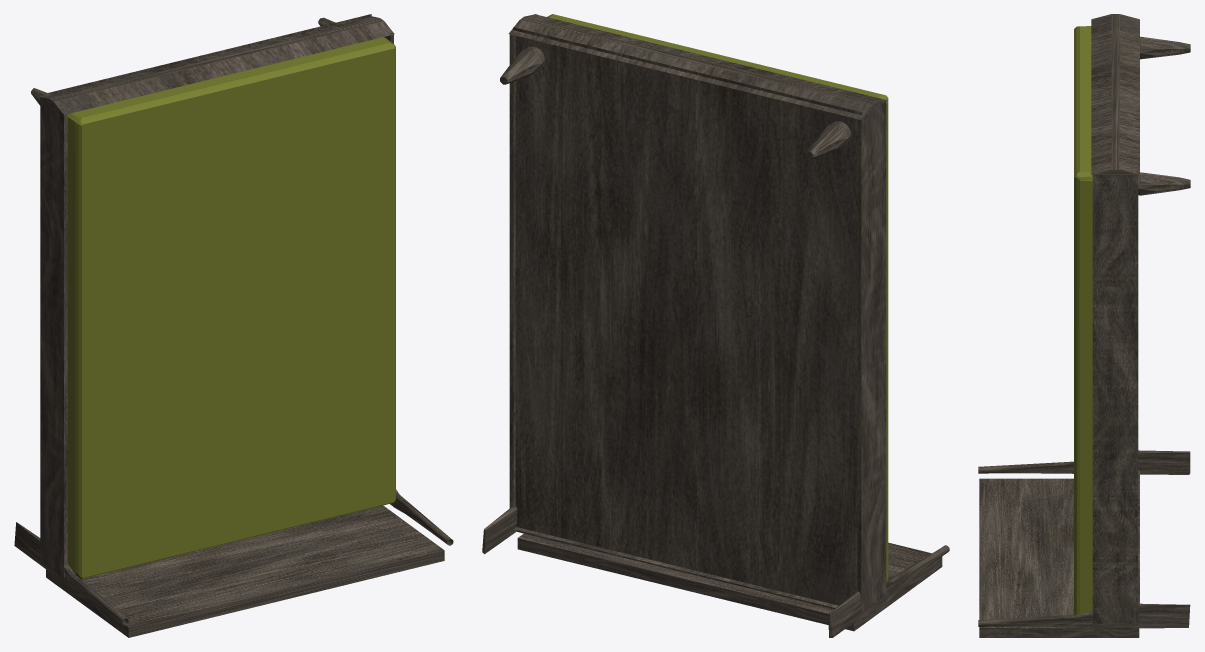
File: bed406_wtf.obj
3 views of the same model, side by side, from view 1: azimuth 30°, elevation 25°; view 2: azimuth 150°, elevation 25°; view 3: azimuth 270°, elevation 25° (orthographic). The views are drawn at different scales.
Parts seen in each view (by area): view 1: group3, group2, group4; view 2: group2, group4, group3; view 3: group2, group4, group3.
Part boxes in pixels (bbox=[...]): group3: bbox=[67, 37, 395, 578]; group2: bbox=[14, 14, 453, 624]; group4: bbox=[46, 505, 444, 637]; group2: bbox=[482, 14, 949, 637]; group4: bbox=[517, 533, 942, 631]; group3: bbox=[547, 14, 888, 579]; group2: bbox=[978, 14, 1190, 628]; group4: bbox=[979, 478, 1139, 637]; group3: bbox=[1074, 26, 1092, 614].
Bounding box in the file's own units: 469 × 660 × 269.
